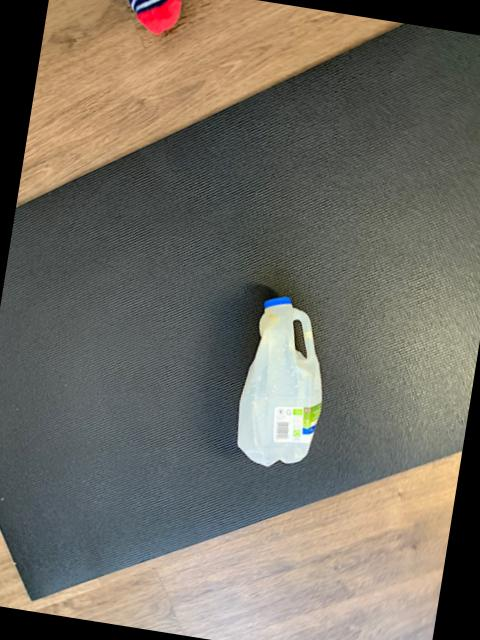plastic: (235, 297, 320, 466)
